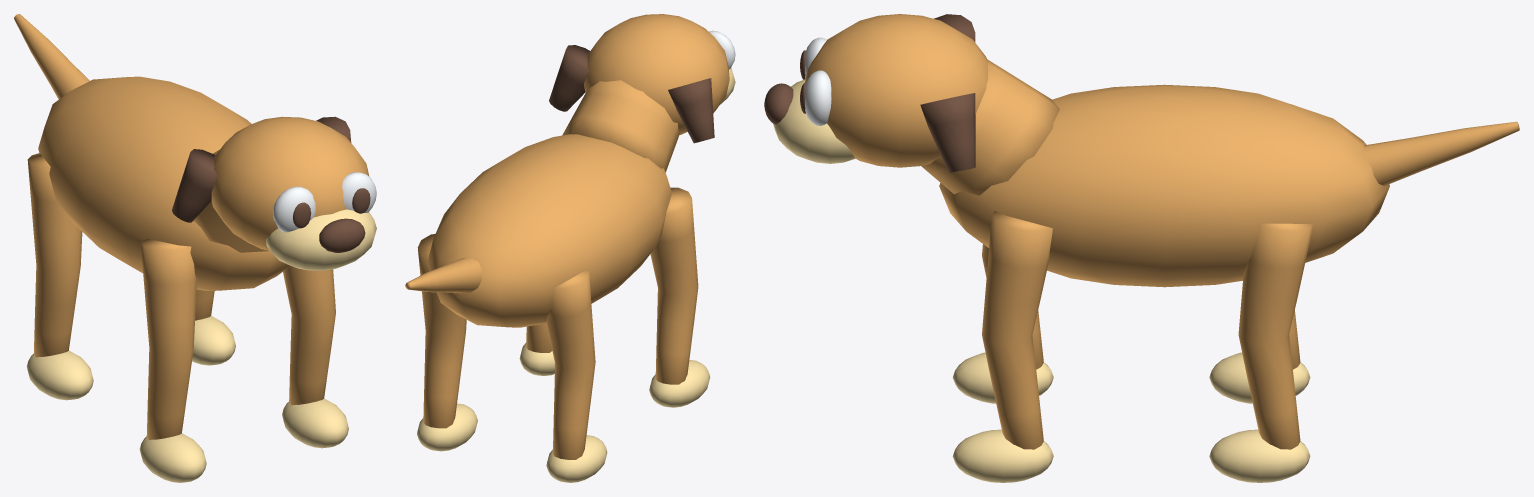
The model's file is demo-quadruped-input.glb.
The picture shows the model from 3 angles, left to right: view 1: azimuth 30°, elevation 25°; view 2: azimuth 150°, elevation 25°; view 3: azimuth 270°, elevation 25°; orthographic projection. The views are drawn at different scales.
Parts seen in each view (by area): view 1: body-mesh, head-mesh, leg-front.left, leg-rear.left, leg-front.right, muzzle, paw-front.left, paw-rear.left, paw-front.right, tail-mesh, ear-left, paw-rear.right (+5 smaller); view 2: body-mesh, head-mesh, leg-rear.left, leg-front.left, neck-mesh, leg-rear.right, ear-left, tail-mesh, ear-right, paw-front.left, paw-rear.right, paw-rear.left (+3 smaller); view 3: body-mesh, head-mesh, leg-front.right, leg-rear.right, neck-mesh, tail-mesh, paw-front.right, paw-rear.right, ear-right, muzzle, paw-rear.left, paw-front.left (+2 smaller).
Boxes of the visible parts, <box> form: body-mesh: <box>38,76,290,290</box>; head-mesh: <box>211,116,369,251</box>; leg-front.left: <box>140,238,196,439</box>; leg-rear.left: <box>27,153,82,357</box>; leg-front.right: <box>283,266,335,405</box>; muzzle: <box>266,209,376,270</box>; paw-front.left: <box>139,433,206,482</box>; paw-rear.left: <box>26,350,93,400</box>; paw-front.right: <box>282,398,348,448</box>; tail-mesh: <box>14,14,89,99</box>; ear-left: <box>172,149,217,222</box>; paw-rear.right: <box>192,316,235,365</box>; body-mesh: <box>427,134,671,327</box>; head-mesh: <box>584,14,729,134</box>; leg-rear.left: <box>546,269,595,459</box>; leg-front.left: <box>650,187,698,384</box>; neck-mesh: <box>562,80,680,172</box>; leg-rear.right: <box>417,234,466,428</box>; ear-left: <box>668,78,714,143</box>; tail-mesh: <box>405,257,481,293</box>; ear-right: <box>549,45,589,111</box>; paw-front.left: <box>649,360,710,407</box>; paw-rear.right: <box>417,403,477,451</box>; paw-rear.left: <box>546,435,607,482</box>; body-mesh: <box>939,84,1389,287</box>; head-mesh: <box>805,14,987,167</box>; leg-front.right: <box>982,211,1052,449</box>; leg-rear.right: <box>1238,223,1312,449</box>; neck-mesh: <box>921,59,1059,195</box>; tail-mesh: <box>1364,121,1519,185</box>; paw-front.right: <box>952,429,1053,482</box>; paw-rear.right: <box>1209,429,1310,482</box>; ear-right: <box>920,93,975,173</box>; muzzle: <box>773,79,855,163</box>; paw-rear.left: <box>1209,352,1310,403</box>; paw-front.left: <box>952,352,1053,403</box>.
Bounding box in the file's own units: 0.65 × 1.18 × 1.94.
